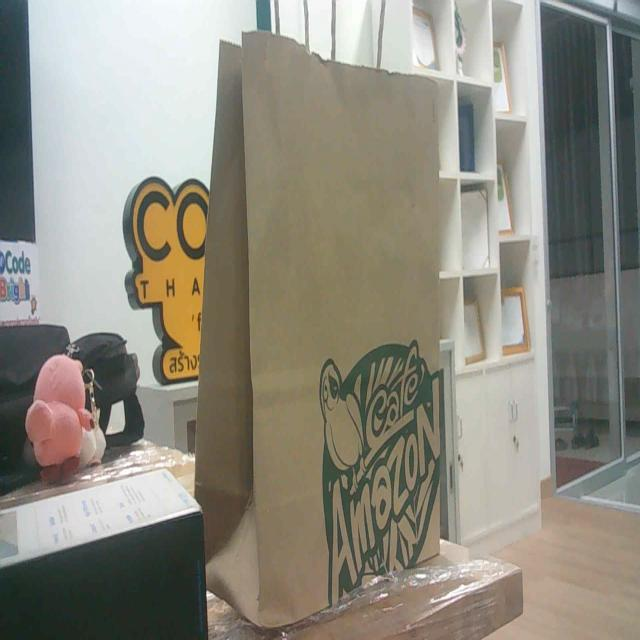bag: (207, 36, 476, 640)
